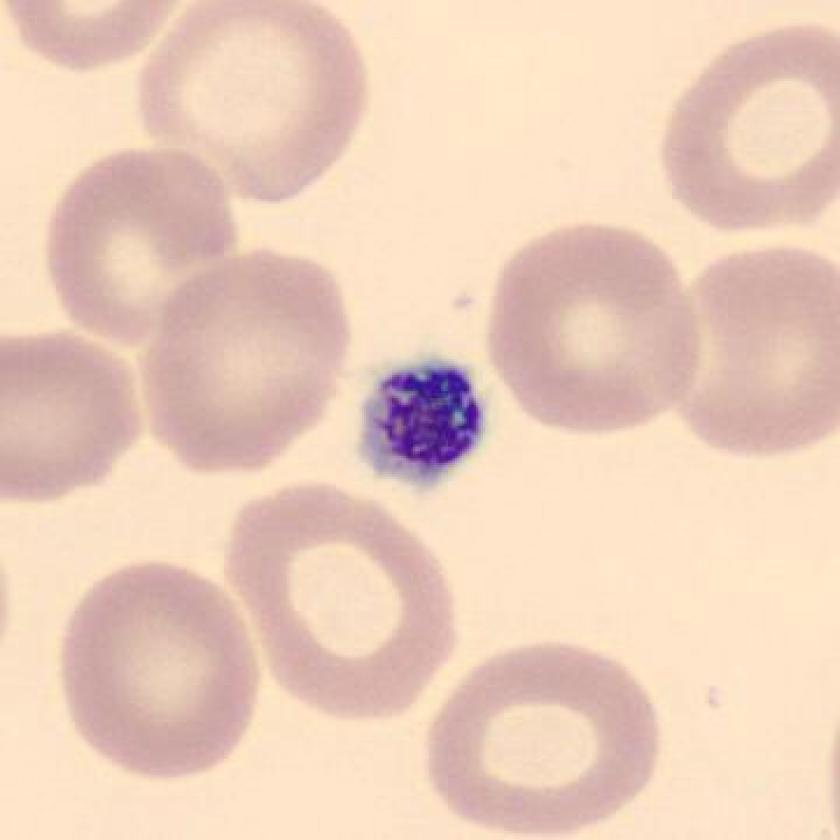platelets: (344, 343, 500, 508)
